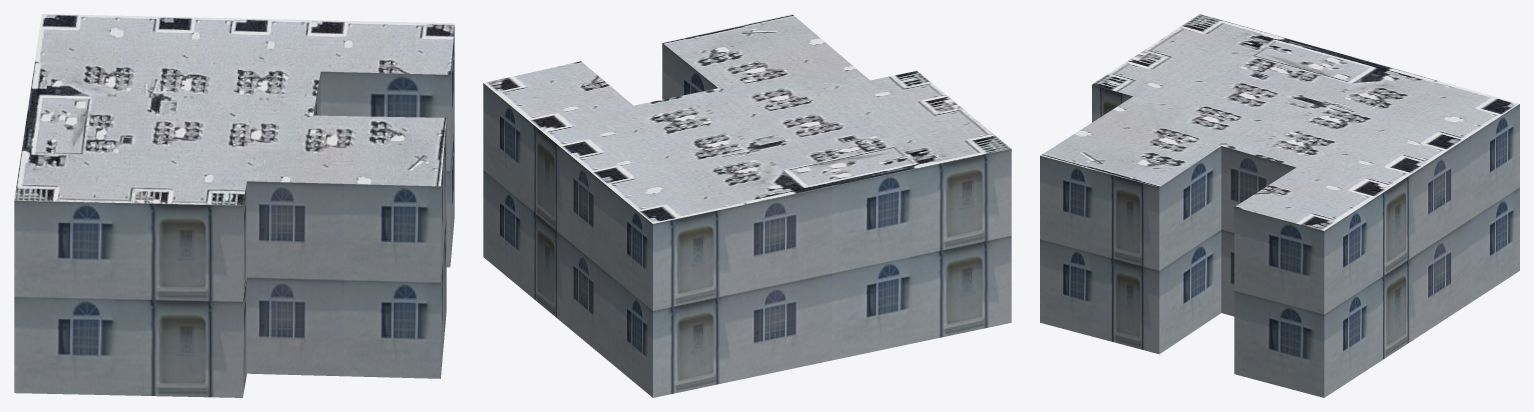
File: ResTex__3870.fbx
The picture shows the model from 3 angles, left to right: view 1: azimuth 30°, elevation 25°; view 2: azimuth 150°, elevation 25°; view 3: azimuth 270°, elevation 25°; orthographic projection. The views are drawn at different scales.
Parts seen in each view (by area): view 1: CityEngineMaterial_17_m, CityEngineMaterial_m; view 2: CityEngineMaterial_17_m, CityEngineMaterial_m; view 3: CityEngineMaterial_17_m, CityEngineMaterial_m.
Boxes of the visible parts, box(x1,y1,x2,y2) form: CityEngineMaterial_17_m: box(14, 27, 454, 397); CityEngineMaterial_m: box(14, 14, 454, 205); CityEngineMaterial_17_m: box(483, 43, 1011, 397); CityEngineMaterial_m: box(484, 14, 1010, 223); CityEngineMaterial_17_m: box(1040, 84, 1519, 397); CityEngineMaterial_m: box(1040, 14, 1519, 230).
Size of the model in its own units: 16.71 by 6 by 15.62.
2 materials, 2 textured.
